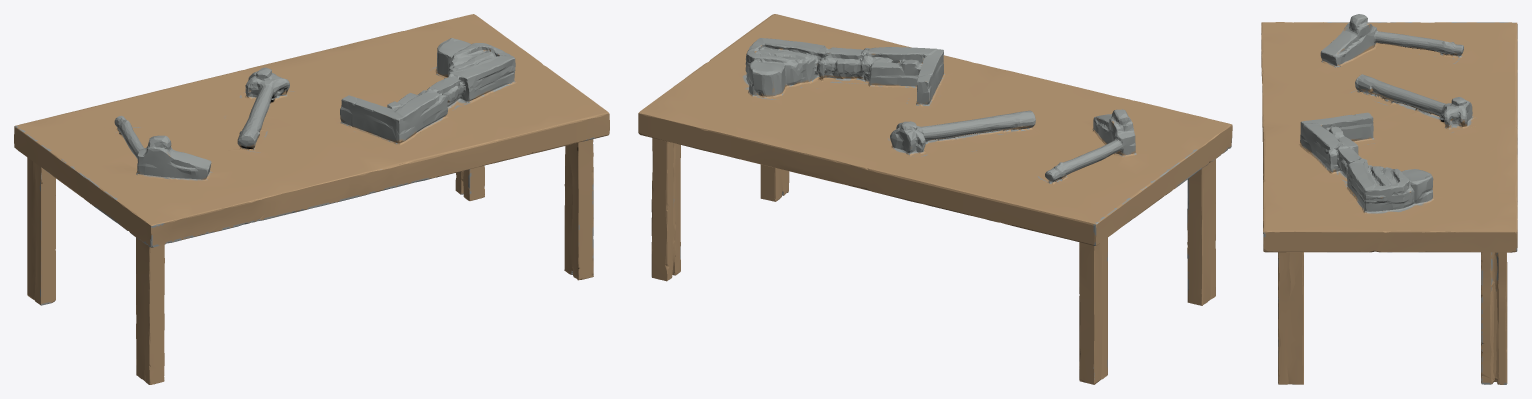
Rendered from Desk.fbx.
The picture shows the model from 3 angles, left to right: view 1: azimuth 30°, elevation 25°; view 2: azimuth 150°, elevation 25°; view 3: azimuth 270°, elevation 25°; orthographic projection. The views are drawn at different scales.
Parts seen in each view (by area): view 1: Mesh1.0; view 2: Mesh1.0; view 3: Mesh1.0.
Boxes of the visible parts, bbox=[...] form: Mesh1.0: bbox=[14, 14, 609, 384]; Mesh1.0: bbox=[638, 14, 1232, 384]; Mesh1.0: bbox=[1261, 14, 1517, 384].
Bounding box in the file's own units: 201 × 85.14 × 104.
Materials: 1 (1 with a texture image).
